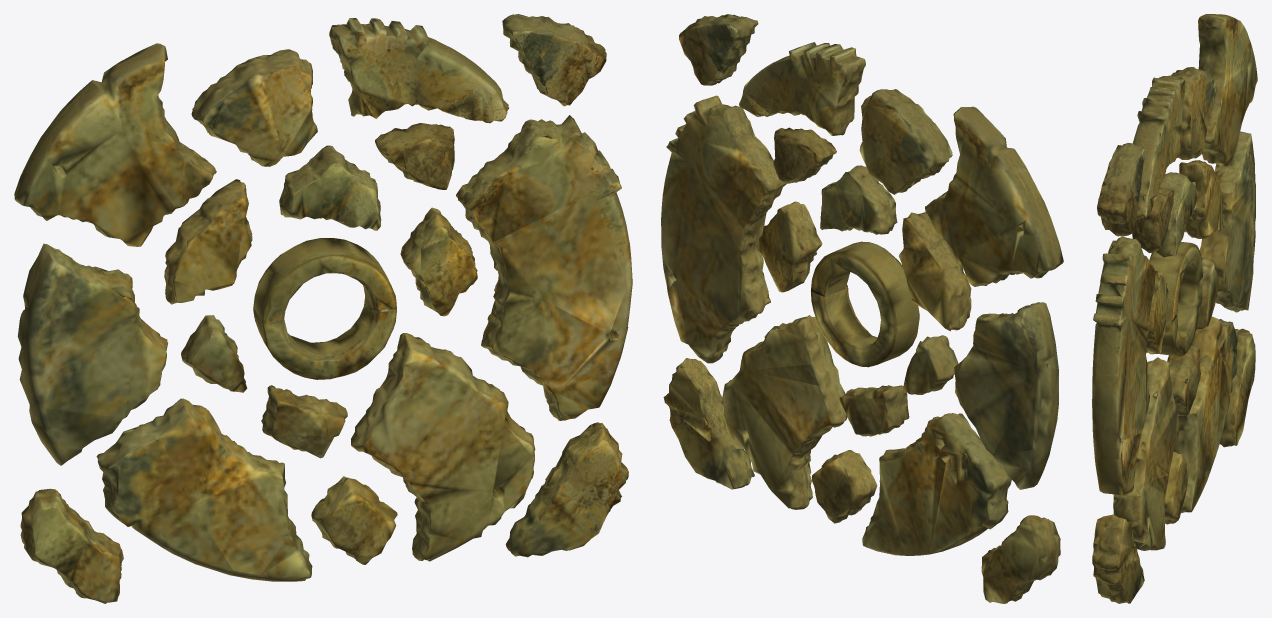
Rendered from 12-jade-fragment.glb.
3 views of the same model, side by side, from view 1: azimuth 30°, elevation 25°; view 2: azimuth 150°, elevation 25°; view 3: azimuth 270°, elevation 25° (orthographic). The views are drawn at different scales.
Visible parts, largest first — view 1: Meshy_AI_Shattered_Jade_Sun_0817194809_texture; view 2: Meshy_AI_Shattered_Jade_Sun_0817194809_texture; view 3: Meshy_AI_Shattered_Jade_Sun_0817194809_texture.
Boxes of the visible parts, x1=… form: Meshy_AI_Shattered_Jade_Sun_0817194809_texture: x1=14, y1=14, x2=632, y2=603; Meshy_AI_Shattered_Jade_Sun_0817194809_texture: x1=661, y1=14, x2=1063, y2=603; Meshy_AI_Shattered_Jade_Sun_0817194809_texture: x1=1092, y1=14, x2=1257, y2=603.
Size of the model in its own units: 0.6675 by 0.6596 by 0.2195.
1 material, 1 textured.
